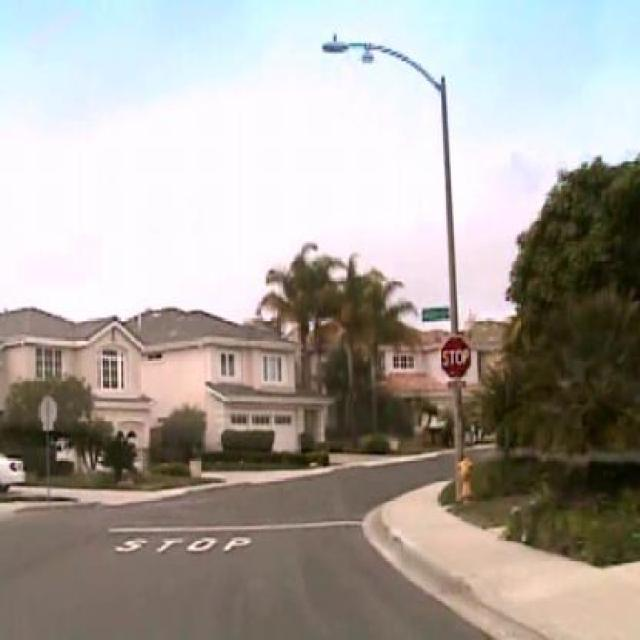stop: (440, 336, 472, 380)
